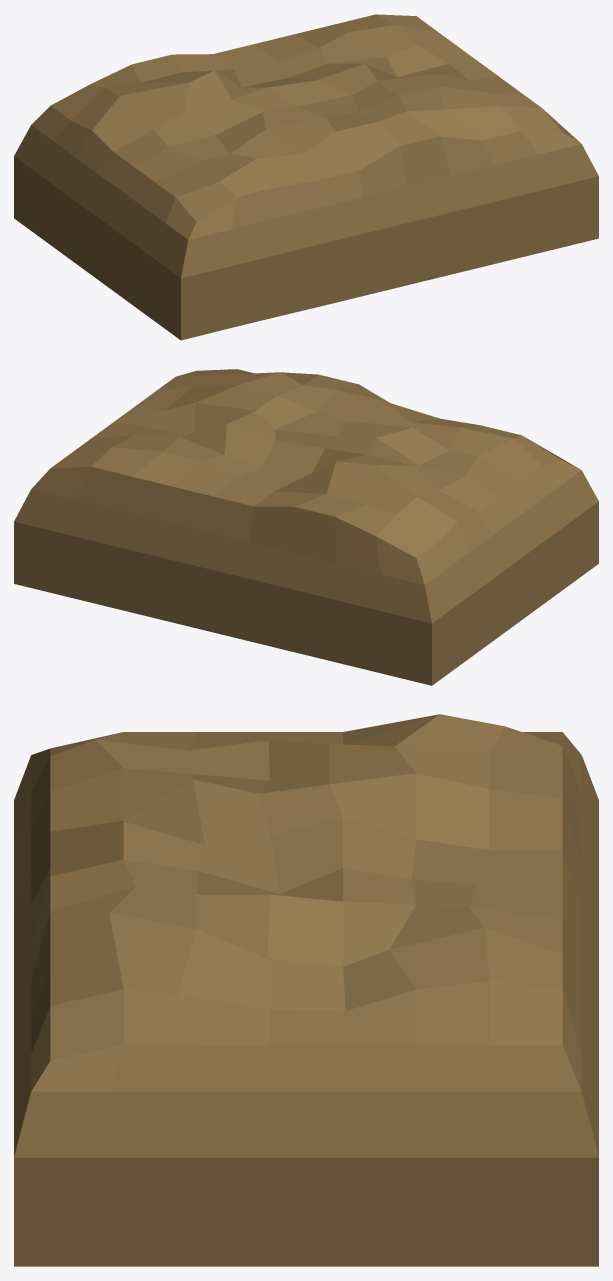
The model's file is ground6.fbx.
3 views of the same model, one above another, from view 1: azimuth 30°, elevation 25°; view 2: azimuth 150°, elevation 25°; view 3: azimuth 270°, elevation 25° (orthographic). The views are drawn at different scales.
Visible parts, largest first — view 1: pCube1; view 2: pCube1; view 3: pCube1.
Part boxes in pixels (box(x1,y1,x2,y2)): pCube1: box(14, 14, 598, 340); pCube1: box(14, 369, 598, 685); pCube1: box(14, 714, 598, 1266).
Bounding box in the file's own units: 16.51 × 5.66 × 11.42.
